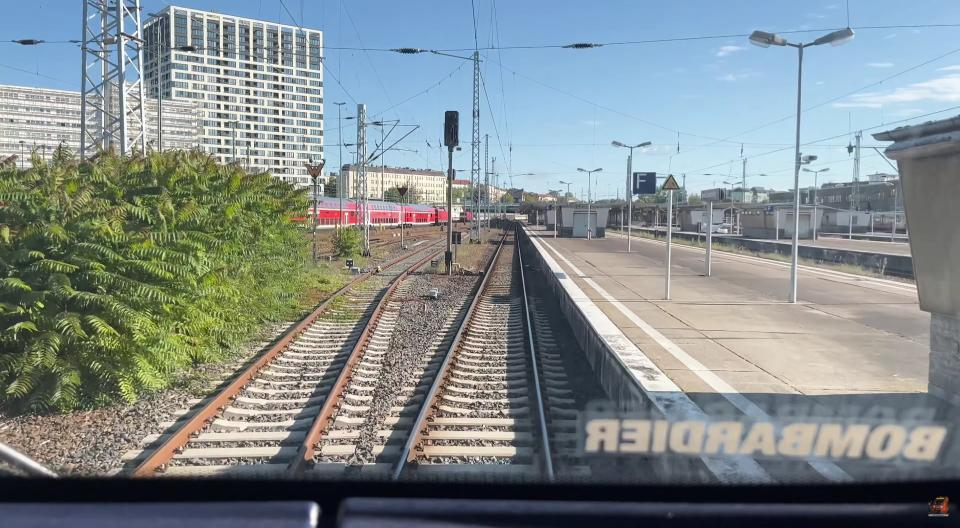Plant: (36, 251, 313, 413), (272, 267, 350, 321), (454, 229, 503, 273), (317, 295, 380, 325), (391, 296, 428, 306), (382, 305, 399, 313), (437, 256, 444, 273)
